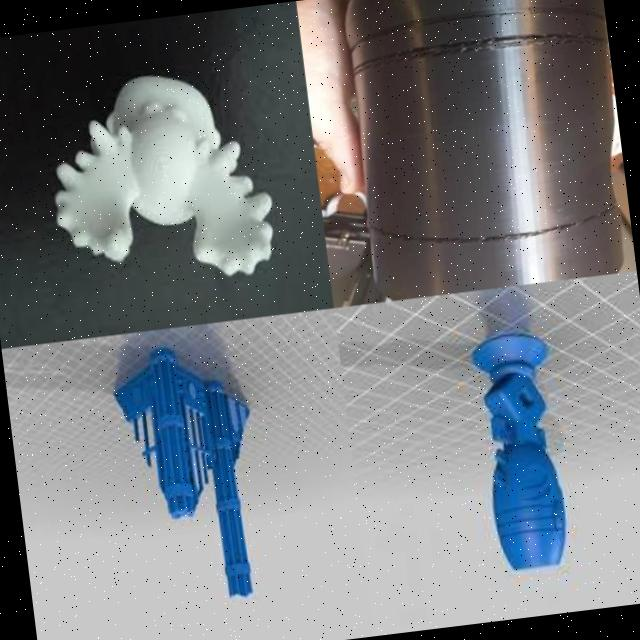cracks: (373, 199, 617, 258), (352, 29, 608, 79)
